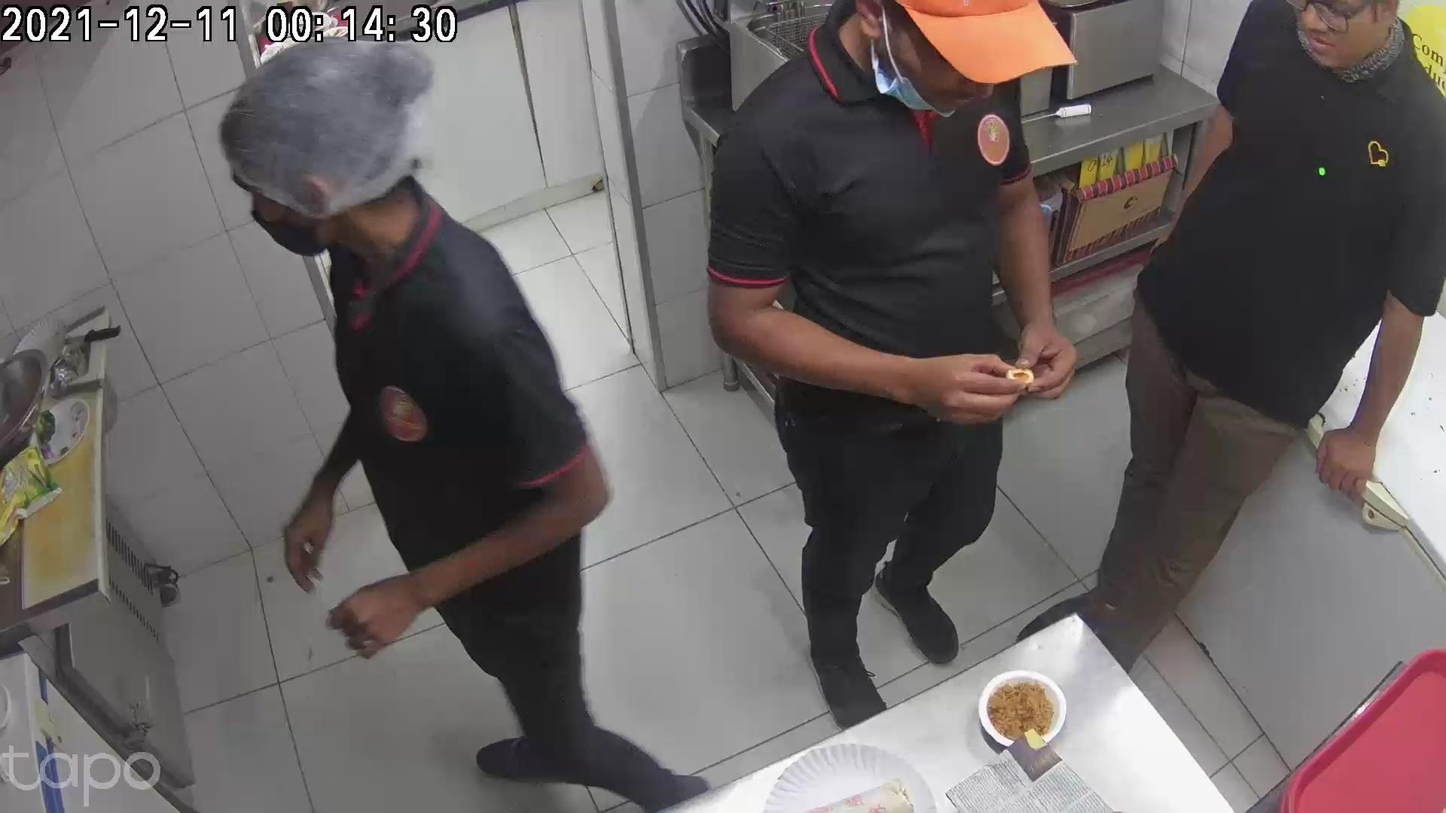gloves: (861, 621, 997, 743)
no_gloves: (1036, 590, 1116, 721)
